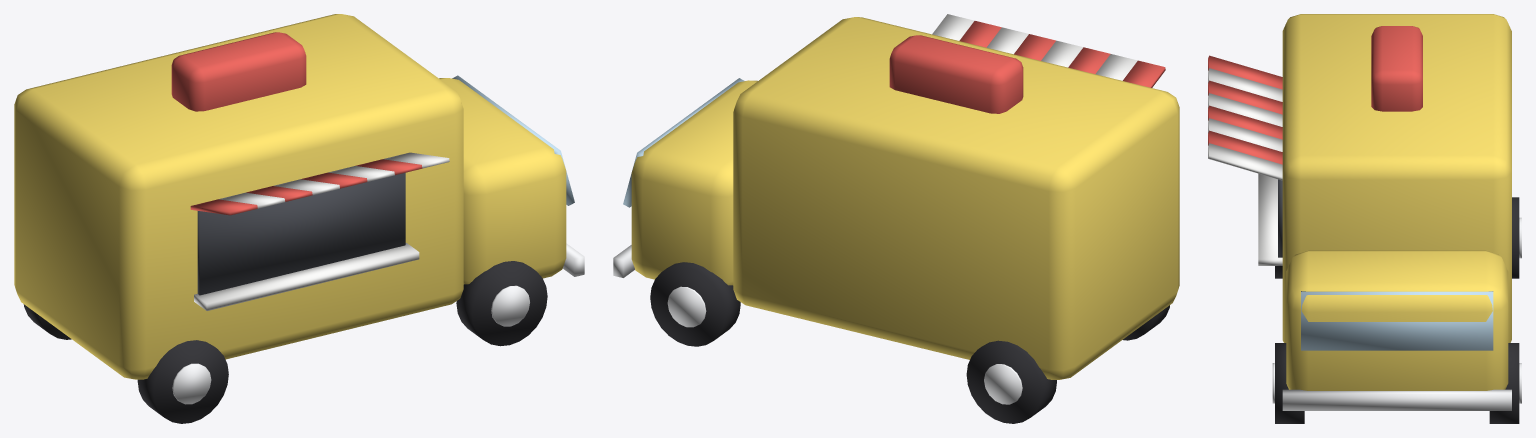
The model's file is FoodTruck.fbx.
3 renders of one model, left to right at view 1: azimuth 30°, elevation 25°; view 2: azimuth 150°, elevation 25°; view 3: azimuth 270°, elevation 25°, orthographic. The views are drawn at different scales.
Visible parts, largest first — view 1: Yellow.003, Dark.007, Accent.002, Rubber, White.003, Chrome.001, Glass; view 2: Yellow.003, Accent.002, Rubber, Chrome.001, White.003, Glass; view 3: Yellow.003, Accent.002, Glass, White.003, Chrome.001, Rubber, Dark.007.
Boxes of the visible parts, box(x1,y1,x2,y2) form: Yellow.003: box(14, 14, 566, 379); Dark.007: box(197, 173, 405, 295); Accent.002: box(171, 32, 422, 215); Rubber: box(23, 261, 547, 423); White.003: box(194, 152, 449, 310); Chrome.001: box(172, 243, 584, 404); Glass: box(452, 75, 574, 205); Yellow.003: box(631, 17, 1179, 379); Accent.002: box(889, 21, 1165, 113); Rubber: box(650, 262, 1169, 423); Chrome.001: box(613, 245, 1022, 404); White.003: box(932, 14, 1137, 80); Glass: box(623, 78, 744, 207); Yellow.003: box(1282, 14, 1511, 390); Accent.002: box(1208, 26, 1422, 164); Glass: box(1301, 291, 1493, 350); White.003: box(1208, 68, 1282, 265); Chrome.001: box(1272, 217, 1521, 410); Rubber: box(1275, 197, 1519, 423); Dark.007: box(1278, 179, 1282, 257).
Bounding box in the file's own units: 13.3 × 8.3 × 8.48.
